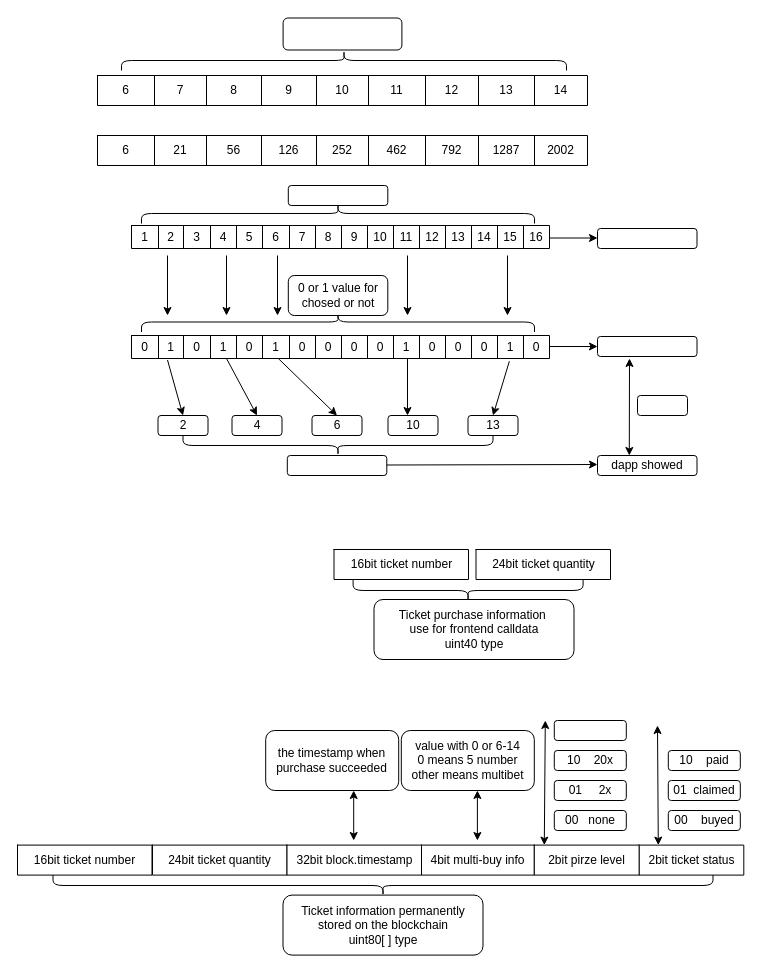
The diagram is 762 pixels wide and 973 high, and some of its shapes have lost their labels. Each missing label, with the box of its shape:
11 FP: (553, 720, 626, 740)
ball index: (287, 184, 388, 206)
equal: (636, 394, 688, 416)
multi-bet mode: (282, 17, 402, 50)
never change: (596, 228, 697, 248)
stored value: (596, 336, 697, 356)
ticket number: (286, 454, 387, 476)
